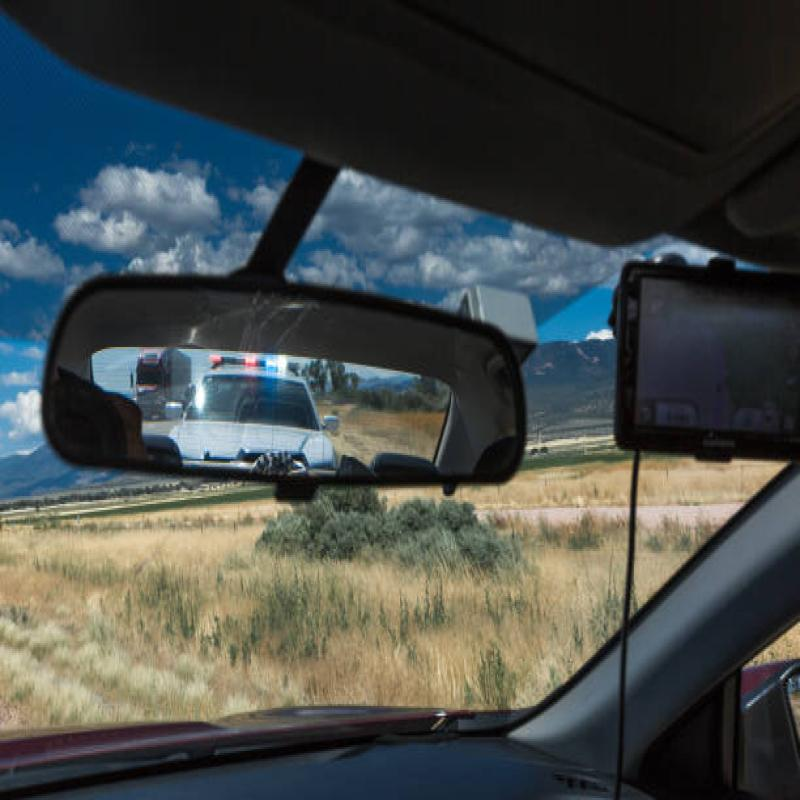AmbulanceSiren: (199, 321, 284, 384)
